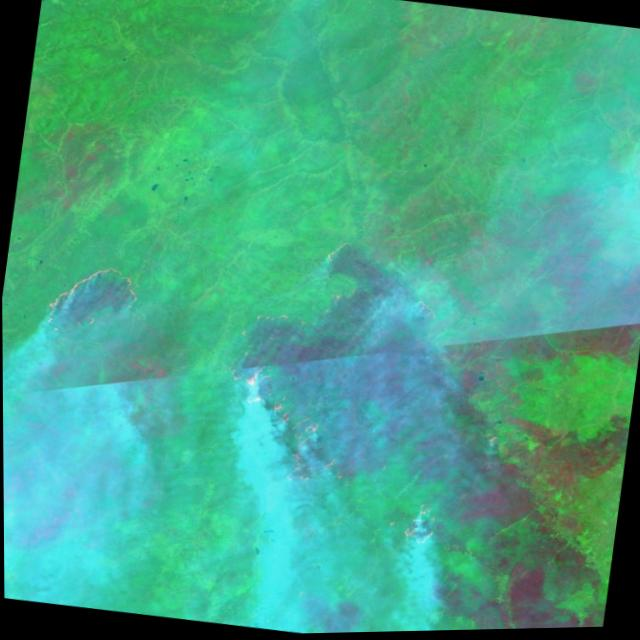fire: (210, 357, 362, 493), (43, 258, 144, 343), (394, 500, 448, 557)
